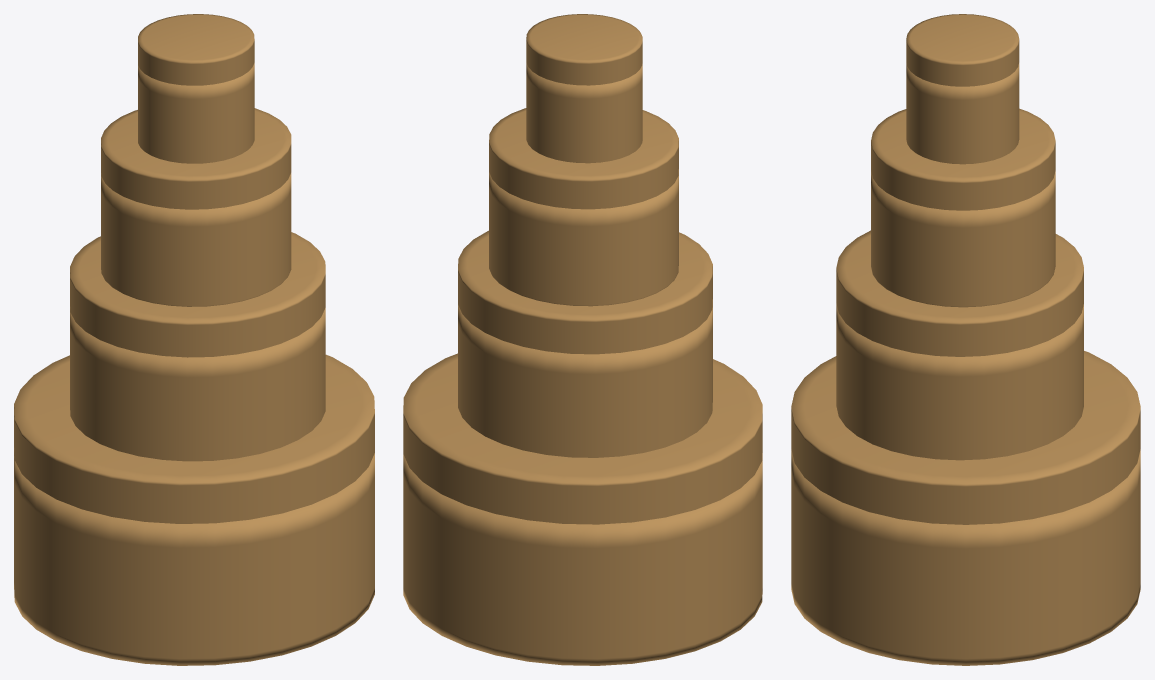
File: 4-tier-caramel-none-none.glb
The picture shows the model from 3 angles, left to right: view 1: azimuth 30°, elevation 25°; view 2: azimuth 150°, elevation 25°; view 3: azimuth 270°, elevation 25°; orthographic projection.
Visible parts, largest first — view 1: 3.001, 3, 2, 1; view 2: 3.001, 3, 2, 1; view 3: 3.001, 3, 2, 1.
Part boxes in pixels (box(x1,y1,x2,y2)): 3.001: box(14, 354, 374, 665); 3: box(70, 232, 325, 461); 2: box(101, 108, 291, 306); 1: box(138, 14, 254, 163); 3.001: box(403, 353, 762, 665); 3: box(458, 230, 712, 457); 2: box(489, 108, 678, 306); 1: box(526, 14, 642, 163); 3.001: box(791, 351, 1140, 665); 3: box(836, 230, 1083, 460); 2: box(871, 108, 1055, 307); 1: box(906, 14, 1019, 164).
Size of the model in its own units: 4.43 by 7.43 by 4.27.
